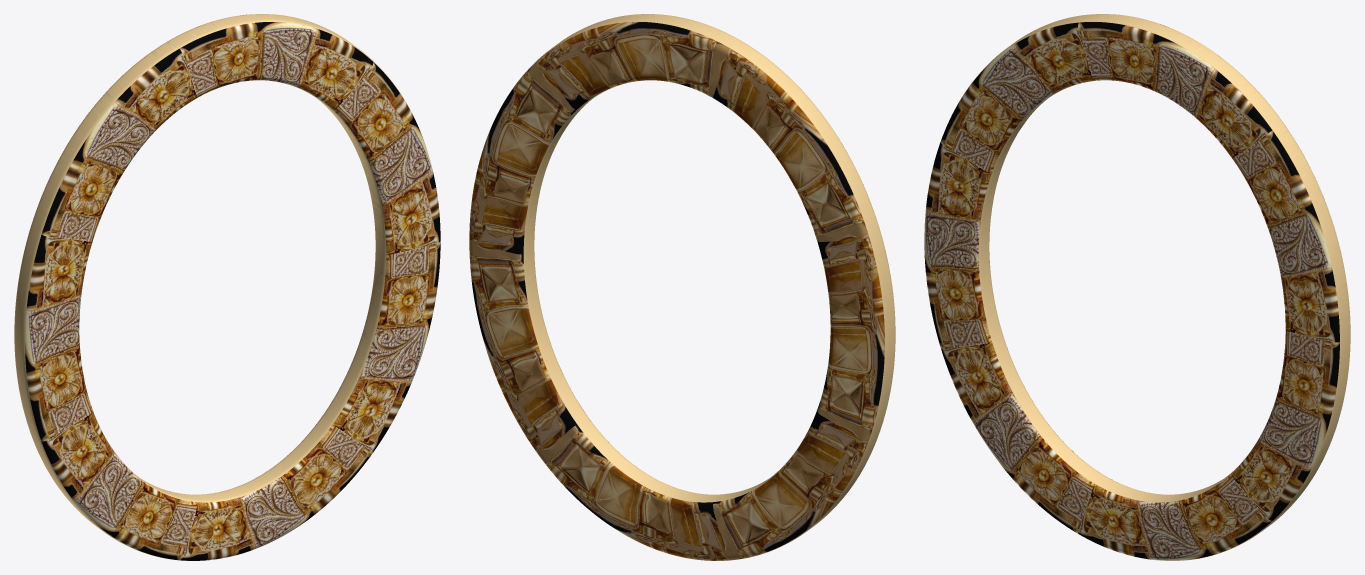
Rendered from bracelet-11-2b564db0.2026-10-07.glb.
3 renders of one model, left to right at view 1: azimuth 30°, elevation 25°; view 2: azimuth 150°, elevation 25°; view 3: azimuth 330°, elevation 25°, orthographic.
Parts seen in each view (by area): view 1: bracelet; view 2: bracelet; view 3: bracelet.
Boxes of the visible parts, box(x1,y1,x2,y2) form: bracelet: box(14, 14, 440, 560); bracelet: box(469, 14, 895, 560); bracelet: box(924, 14, 1350, 560).
Bounding box in the file's own units: 0.0743 × 0.0904 × 0.0045.
3 materials, 2 textured.
